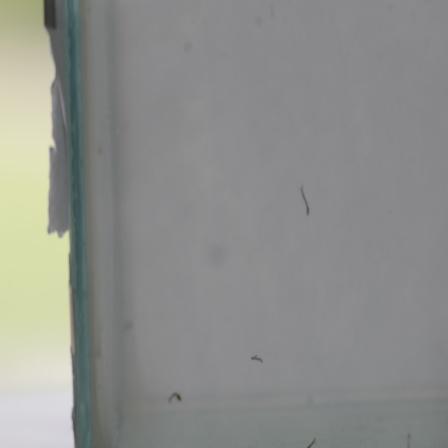Jentik-Nyamuk: (297, 179, 312, 219), (163, 386, 186, 409), (247, 349, 266, 370)
